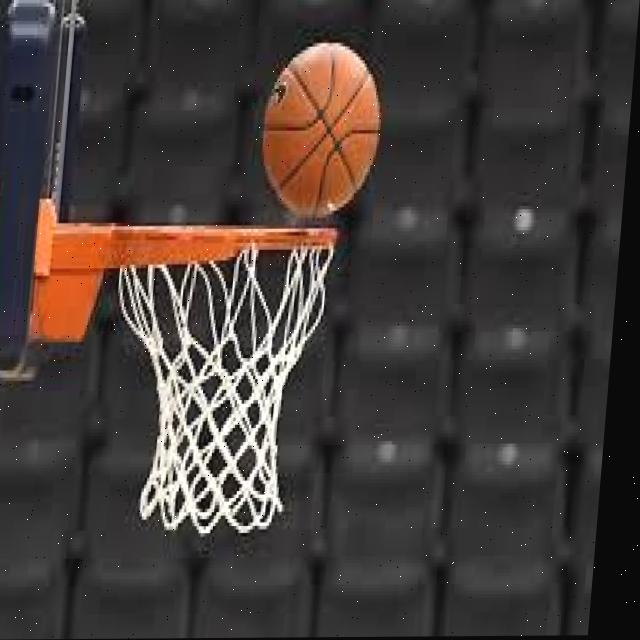basketball: (257, 42, 385, 215)
hoop: (86, 225, 337, 538)
